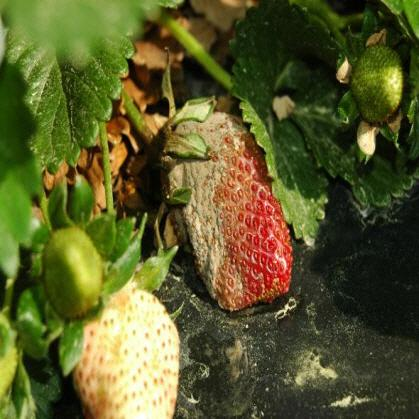Gray Mold: (161, 94, 294, 312)
